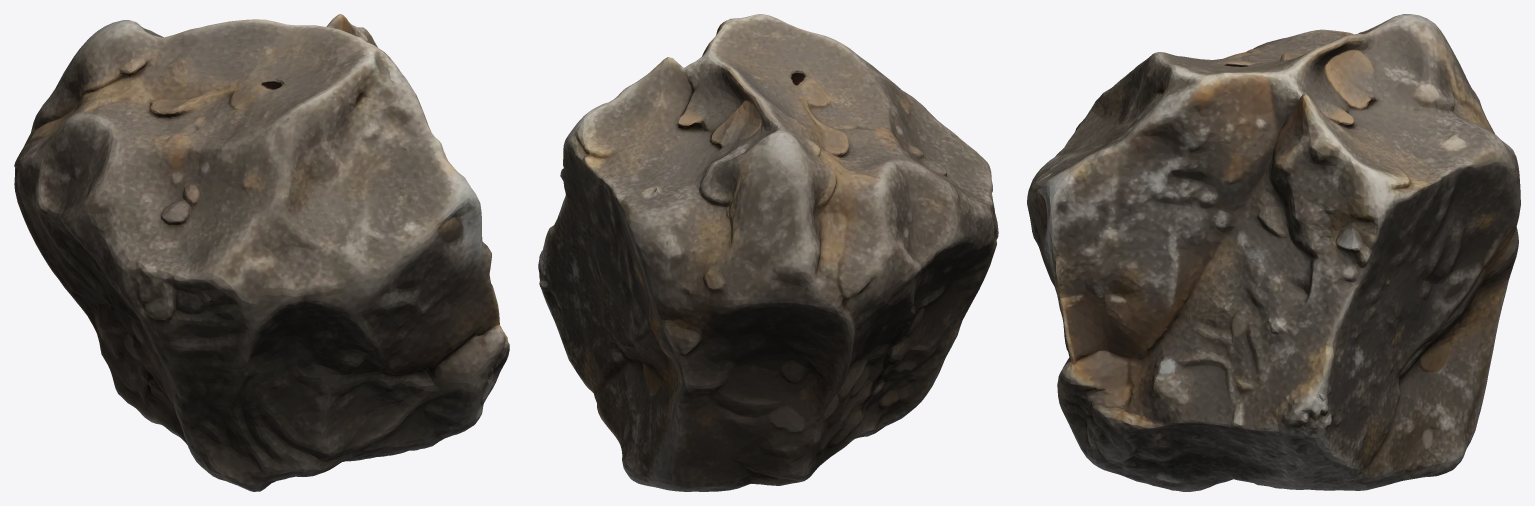
Rendered from rock.glb.
3 views of the same model, side by side, from view 1: azimuth 30°, elevation 25°; view 2: azimuth 150°, elevation 25°; view 3: azimuth 270°, elevation 25° (orthographic). The views are drawn at different scales.
Parts seen in each view (by area): view 1: geometry_0; view 2: geometry_0; view 3: geometry_0.
Part boxes in pixels (bbox=[...]): geometry_0: bbox=[14, 14, 509, 491]; geometry_0: bbox=[538, 14, 998, 491]; geometry_0: bbox=[1027, 14, 1520, 491].
Bounding box in the file's own units: 0.9758 × 0.9001 × 0.961.
1 material, 1 textured.
